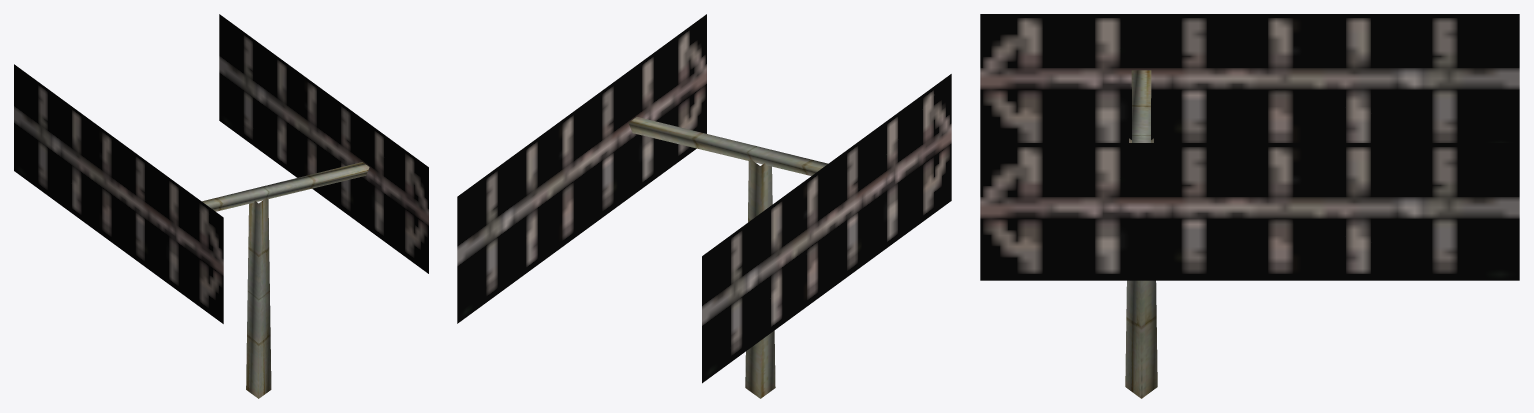
File: M2_Ariel3.glb
The picture shows the model from 3 angles, left to right: view 1: azimuth 30°, elevation 25°; view 2: azimuth 150°, elevation 25°; view 3: azimuth 270°, elevation 25°; orthographic projection. The views are drawn at different scales.
Parts seen in each view (by area): view 1: M2_ARIEL3; view 2: M2_ARIEL3; view 3: M2_ARIEL3.
Boxes of the visible parts, x1,y1,x2,y2 form: M2_ARIEL3: (14,14,428,398); M2_ARIEL3: (457,14,951,398); M2_ARIEL3: (980,14,1519,398).
Size of the model in its own units: 0.905 by 1.03 by 1.6.
2 materials, 2 textured.
